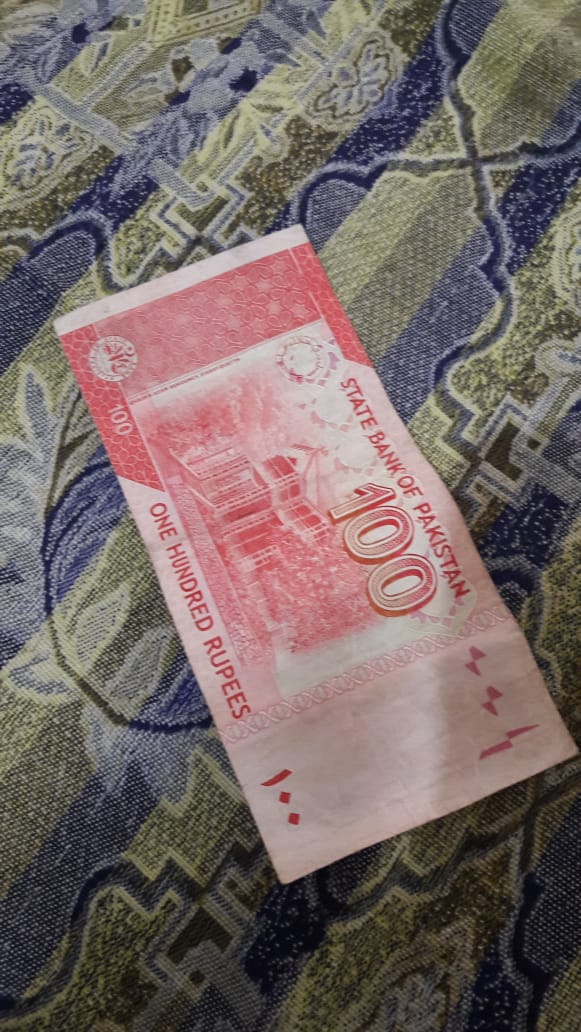100 rupee: (45, 215, 574, 880)
